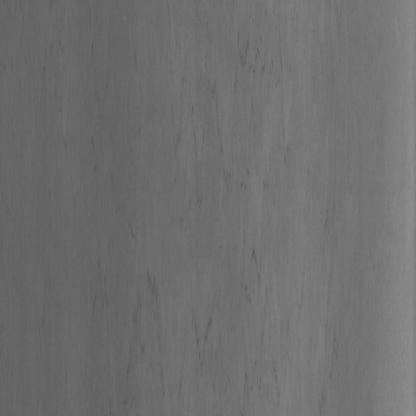silk_spot: (123, 74, 296, 414)
